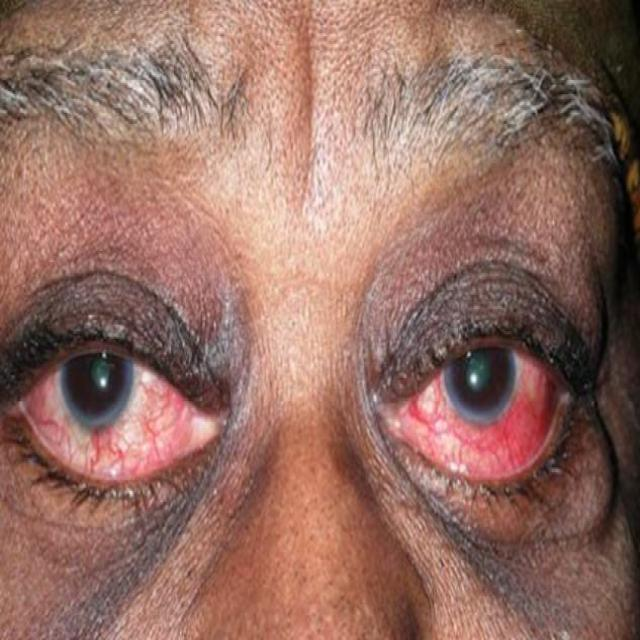Conjunctivitis: (22, 374, 222, 475), (392, 366, 572, 472)
